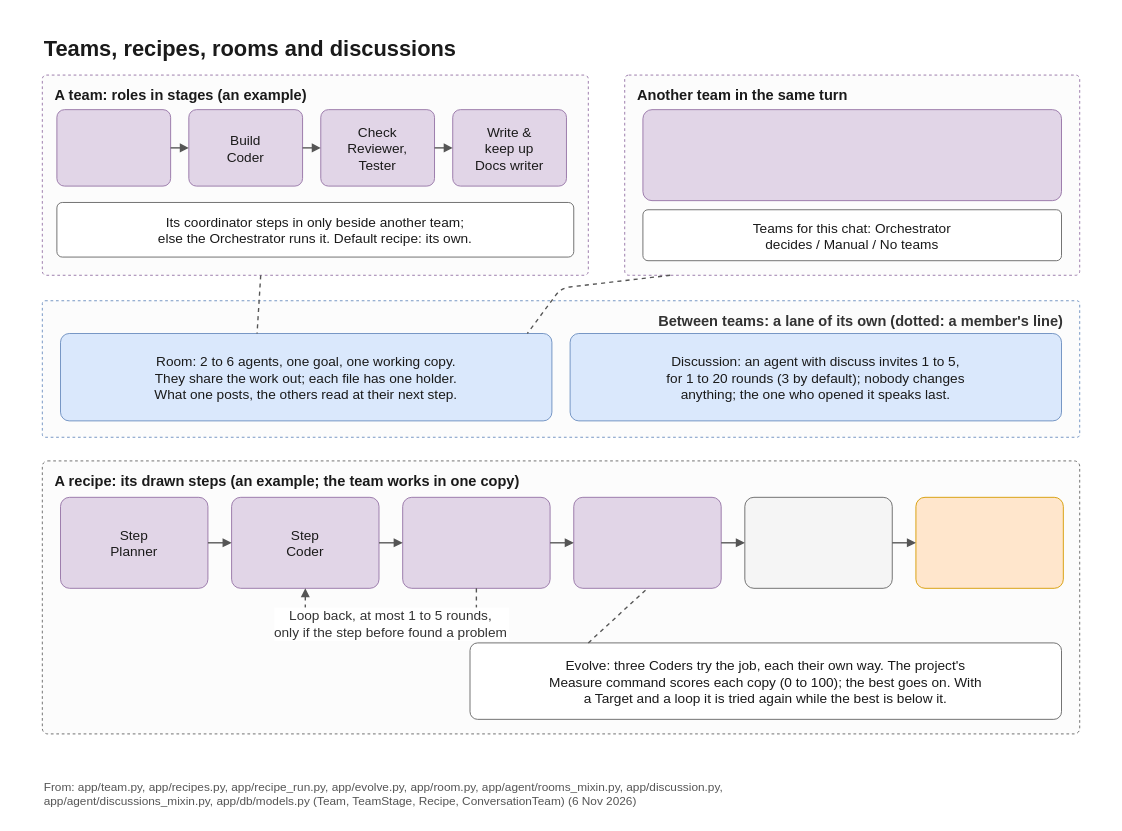
The diagram is 1122 pixels wide and 831 high, and some of its shapes have lost their labels. Here are the shapes that lost their labels. From the top down, the centre of each, then its label:
At (113,147): "Plan Planner".
At (852,155): "Its own stages and roles, its own coordinator, its own recipe".
At (476,542): "All at once Reviewer | Tester (all branches)".
At (647,542): "Candidates 2 to 5, each in its own copy".
At (818,542): "End Ask me, then in".
At (989,542): "Ready for you Take in / Fix the findings / Ask for changes".
